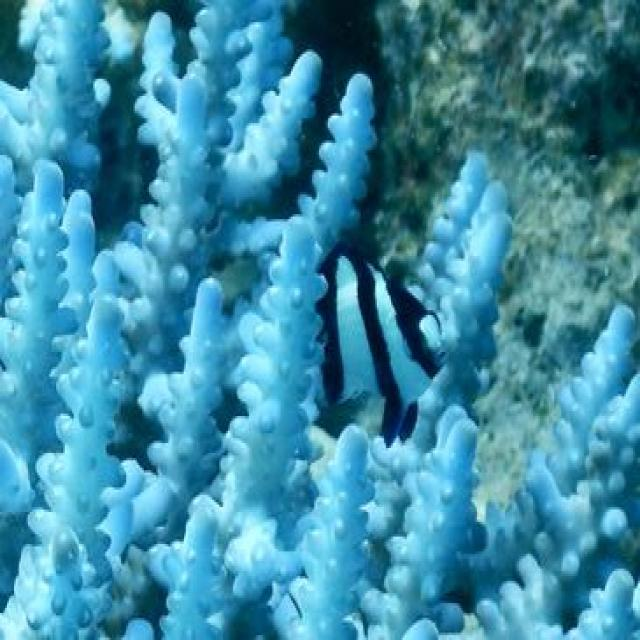ThreeStripedDamselfish: (306, 237, 446, 443)
